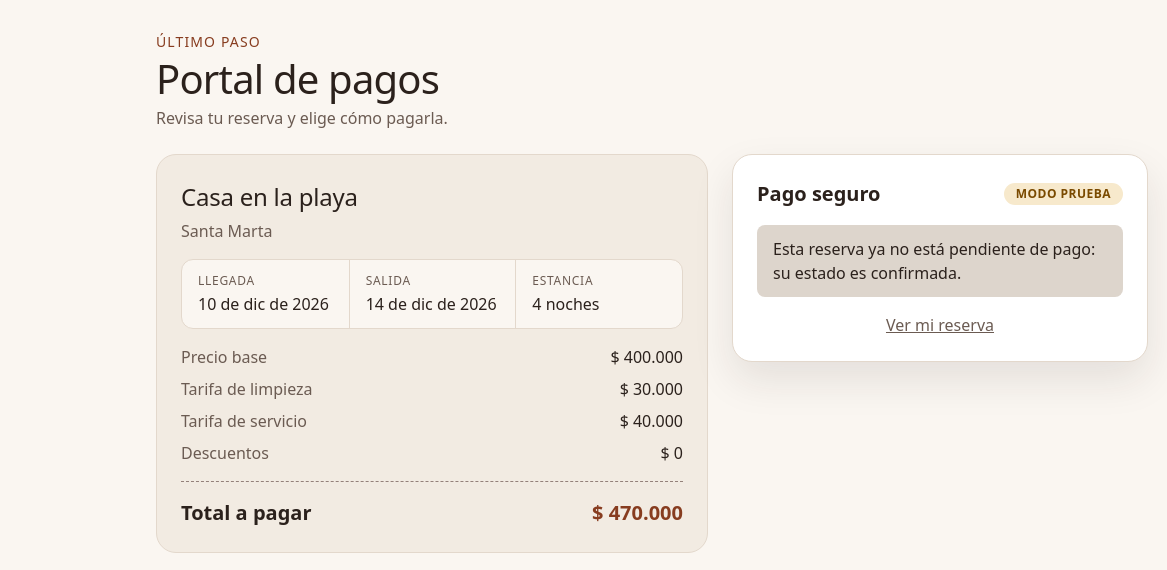
Test case: PortalPagoPage › si la reserva ya no está pendiente no ofrece pagarla y enlaza a su detalle
Expected: the message shows "Esta reserva ya no está pendiente de pago", [773,238,1095,284]
Click the link "Ver mi reserva" at (940, 325), box [886,313,994,337]
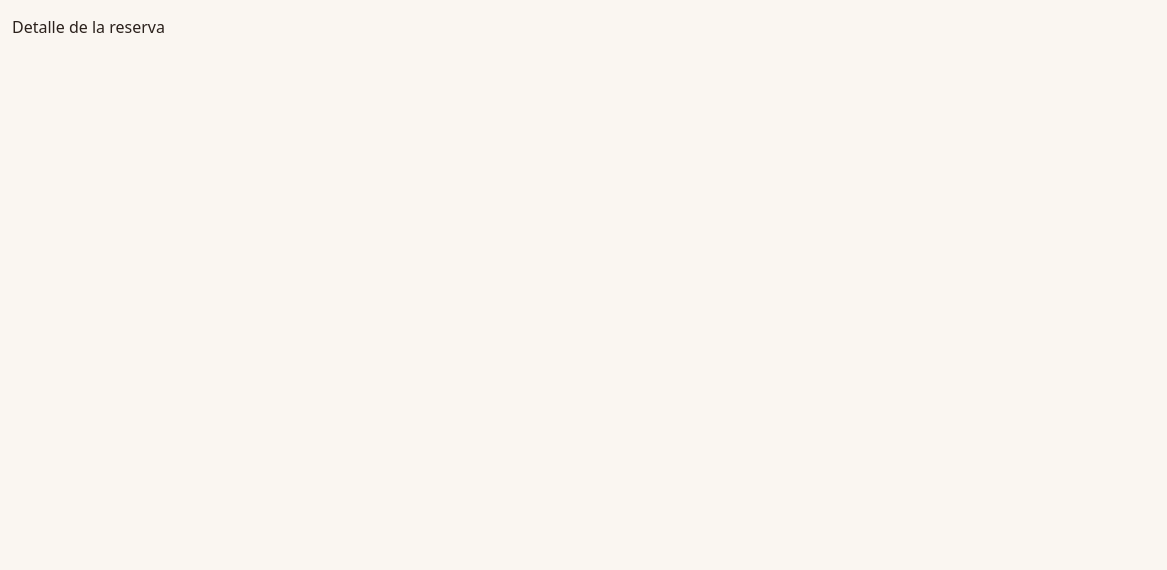
Expected: the text "Detalle de la reserva" is shown, [12,16,165,38]
